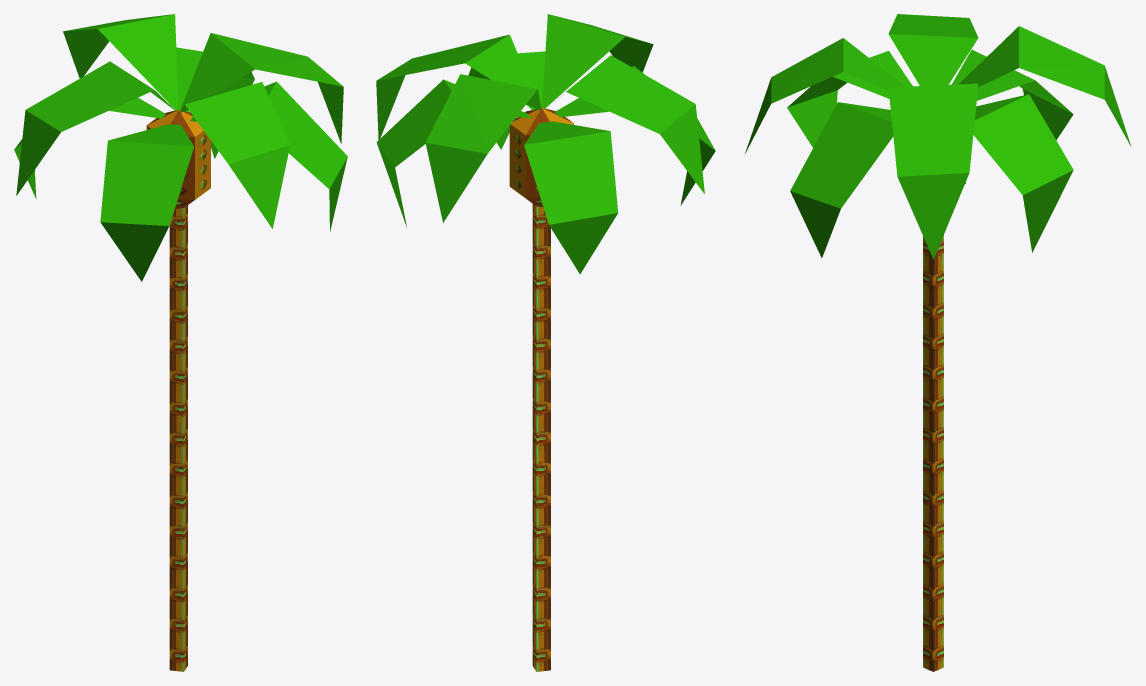
The model's file is yasi.obj.
3 renders of one model, left to right at view 1: azimuth 30°, elevation 25°; view 2: azimuth 150°, elevation 25°; view 3: azimuth 270°, elevation 25°, orthographic.
Parts seen in each view (by area): view 1: n000_object_00CE8790_meshId0_name, n000_object_00CE8790.002_meshId2_name, n000_object_00CE8790.001_meshId1_name; view 2: n000_object_00CE8790_meshId0_name, n000_object_00CE8790.002_meshId2_name, n000_object_00CE8790.001_meshId1_name; view 3: n000_object_00CE8790_meshId0_name, n000_object_00CE8790.002_meshId2_name.
Part boxes in pixels (<box>): n000_object_00CE8790_meshId0_name: <box>14,14,347,281</box>; n000_object_00CE8790.002_meshId2_name: <box>169,205,187,671</box>; n000_object_00CE8790.001_meshId1_name: <box>146,109,210,208</box>; n000_object_00CE8790_meshId0_name: <box>376,14,715,274</box>; n000_object_00CE8790.002_meshId2_name: <box>532,204,550,671</box>; n000_object_00CE8790.001_meshId1_name: <box>509,107,573,206</box>; n000_object_00CE8790_meshId0_name: <box>745,14,1131,259</box>; n000_object_00CE8790.002_meshId2_name: <box>923,235,943,671</box>.
Bounding box in the file's own units: 43.26 × 78.5 × 44.29.
Materials: 3 (3 with a texture image).
